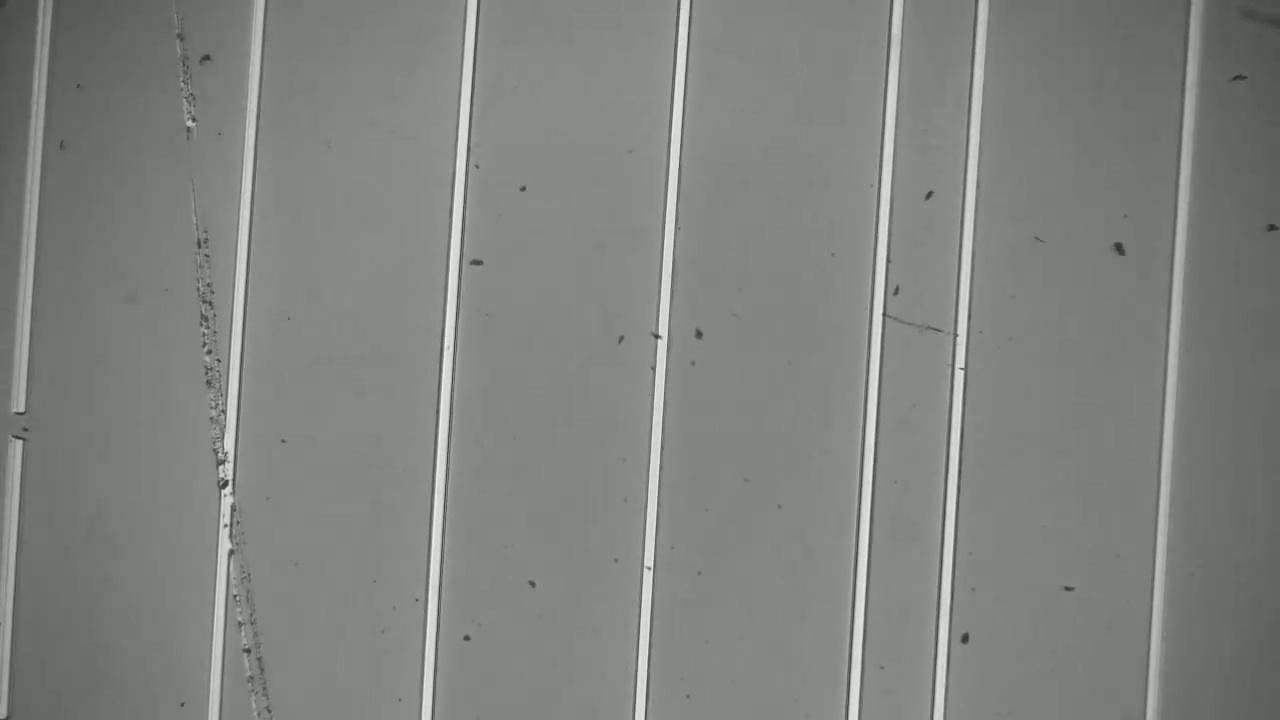open: (0, 381, 40, 463)
scratch: (179, 14, 280, 716), (883, 297, 952, 343)
